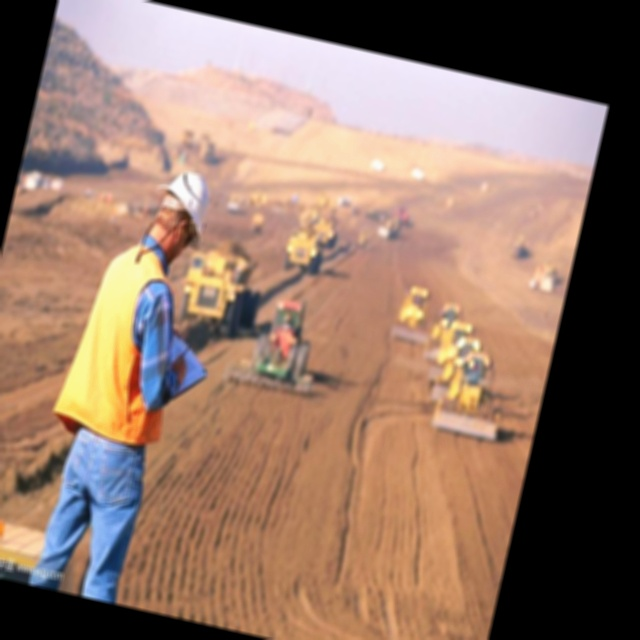Con_Chaleco: (58, 242, 209, 458)
